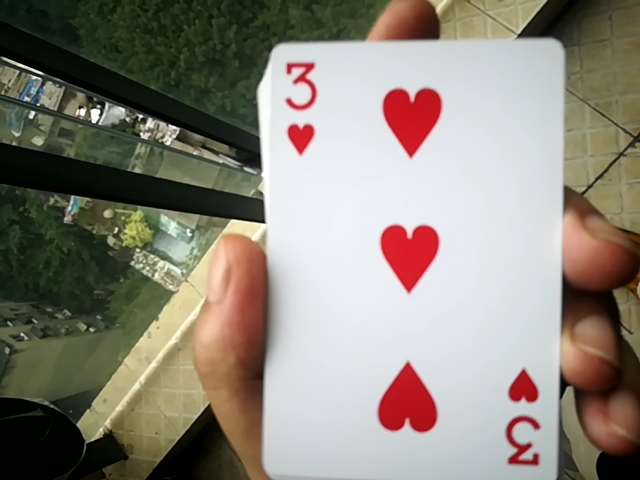hx 3: (243, 52, 574, 478)
